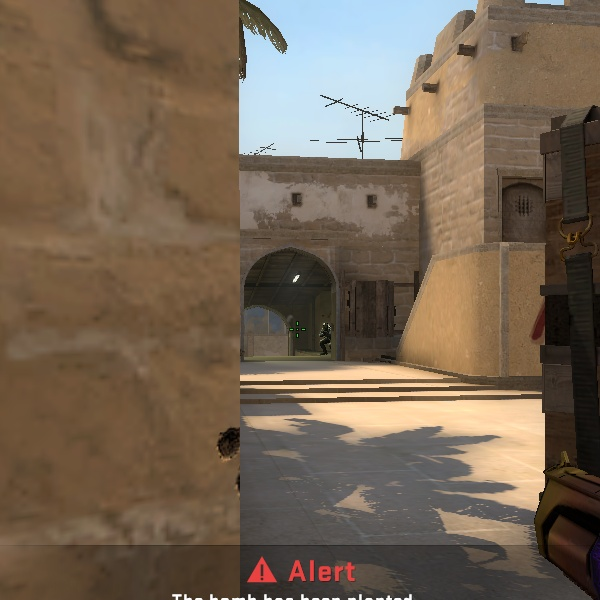ct_body: (314, 318, 336, 356)
